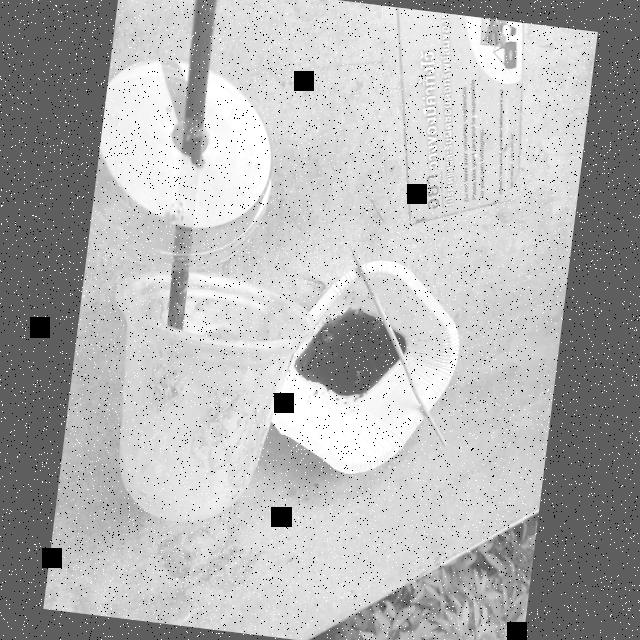cardboard_bowl: (256, 236, 474, 488)
plastic_cup: (86, 264, 322, 540)
plastic_cup_lid: (86, 51, 291, 283)
stick: (324, 249, 474, 455)
straw: (143, 0, 230, 338)
